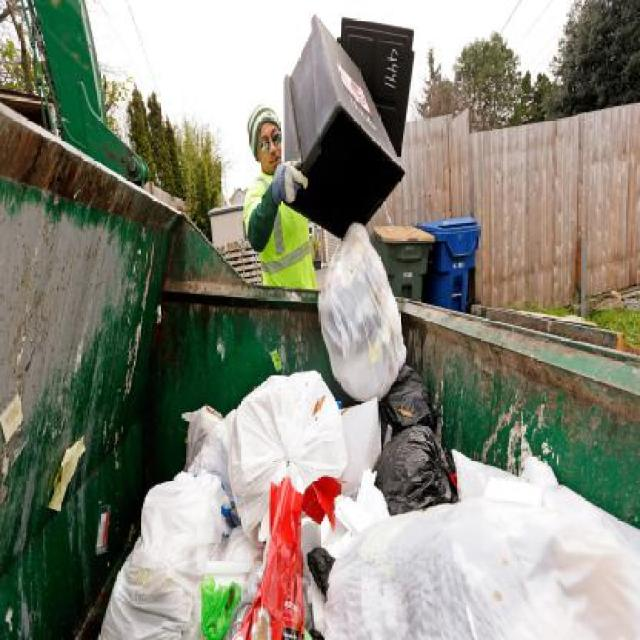garbage container: (274, 18, 408, 240), (373, 220, 438, 306), (431, 212, 484, 310)
